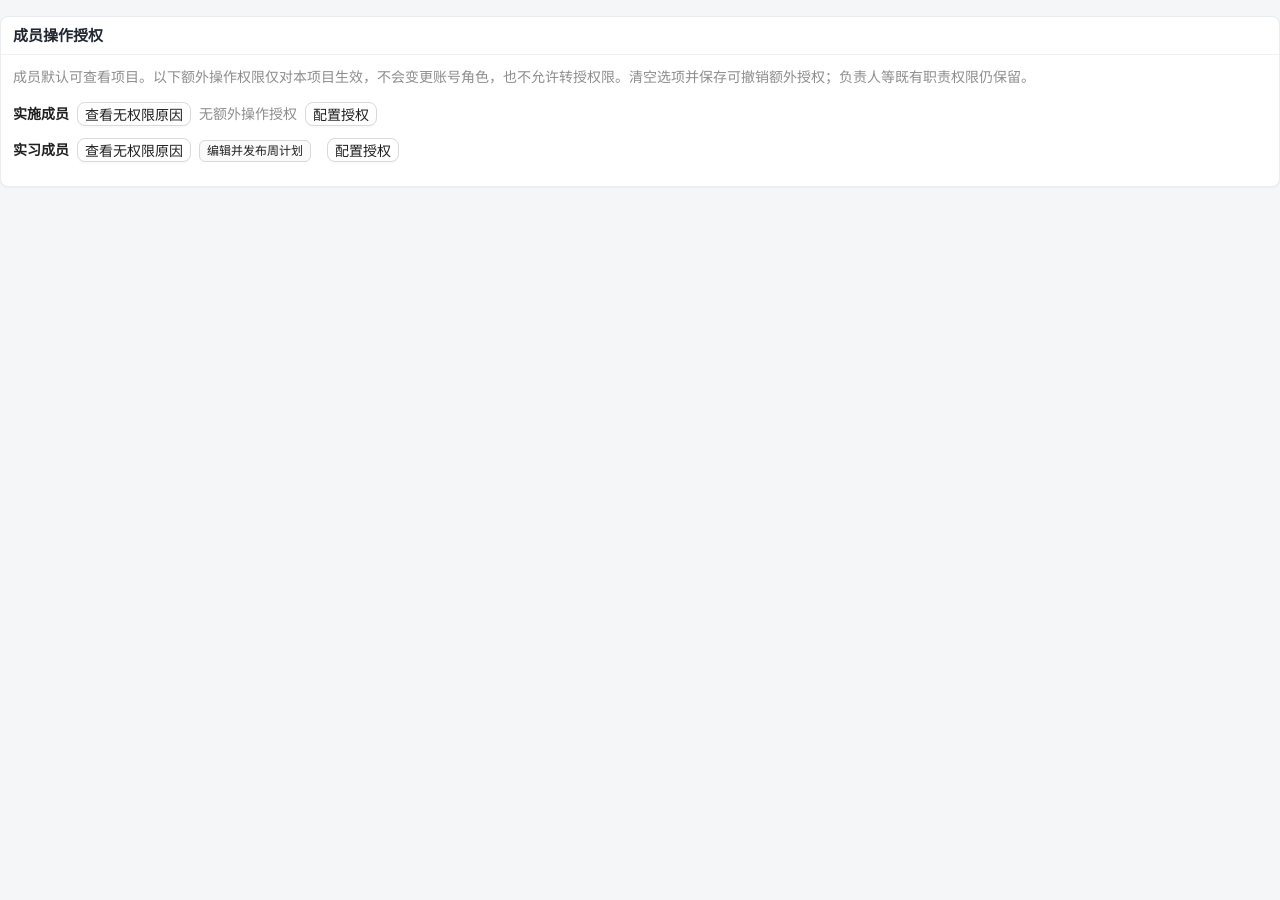
Test: shows the server reason for each project permission without changing grants
Click the button "查看无权限原因" next to "实施成员" at (134, 114), box [77,102,191,126]
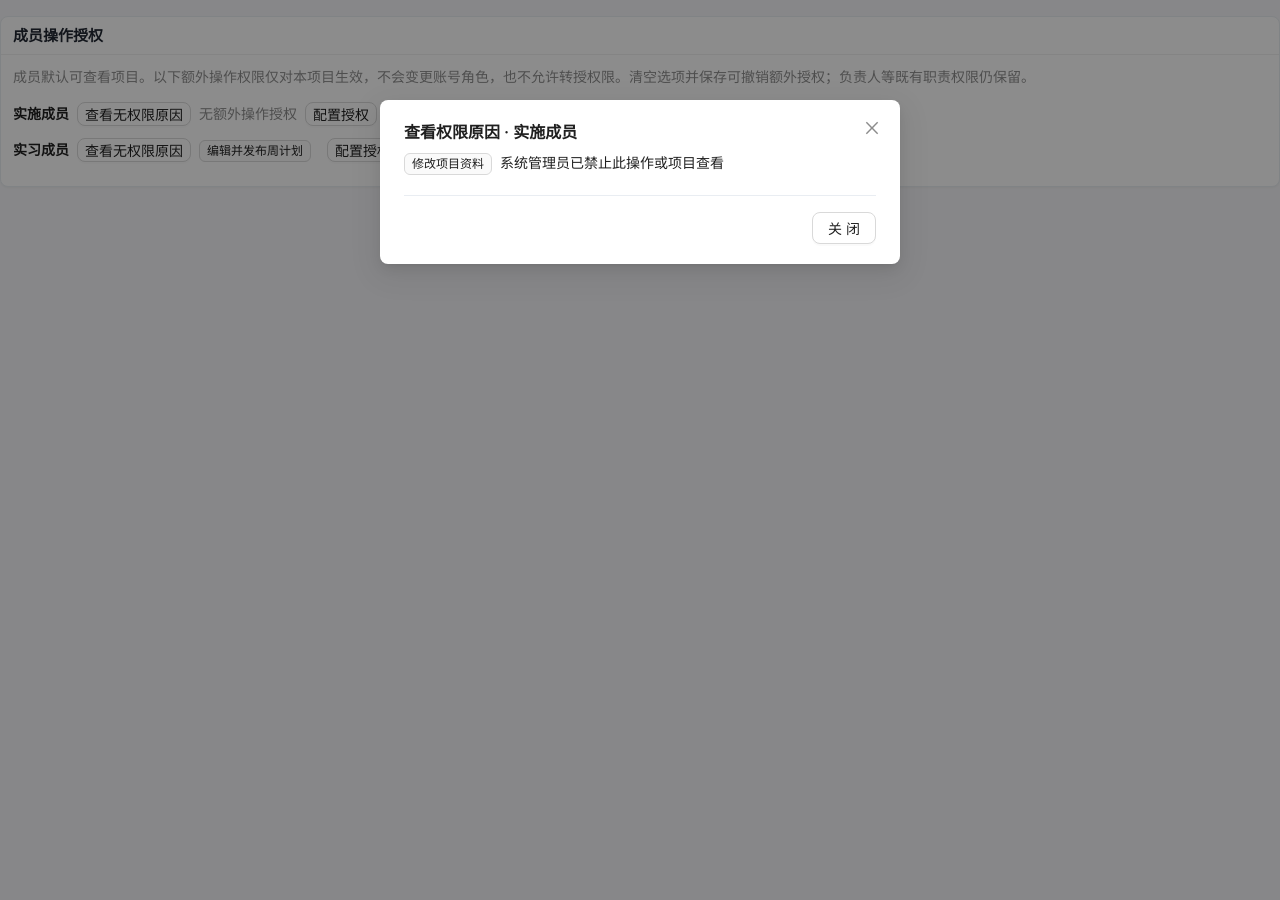
Check: the text "系统管理员已禁止此操作或项目查看" is shown, box [500,154,724,171]
